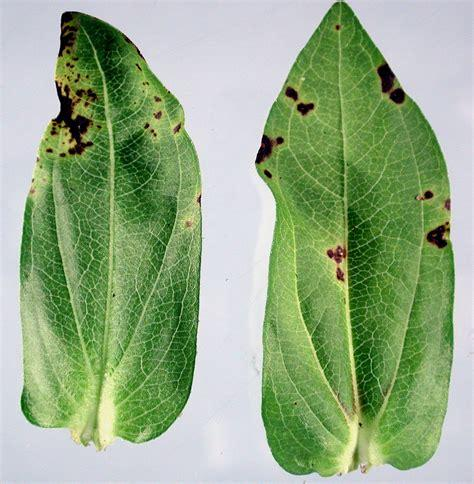black-spot: (289, 81, 322, 123)
